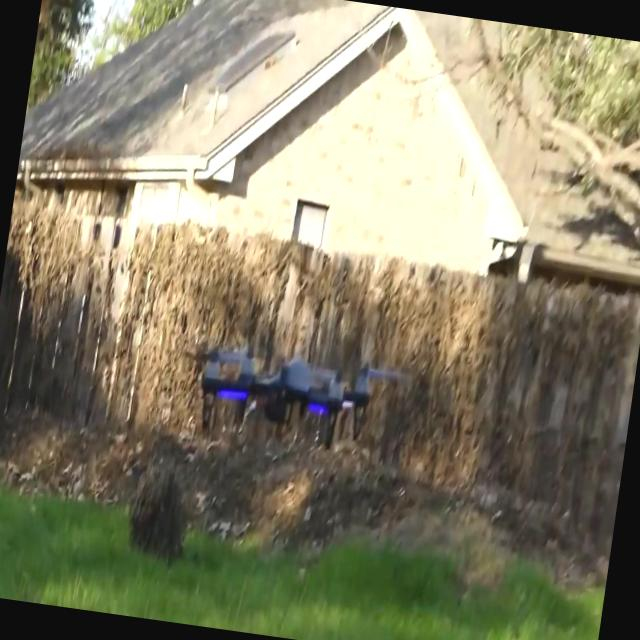drone: (172, 328, 408, 458)
